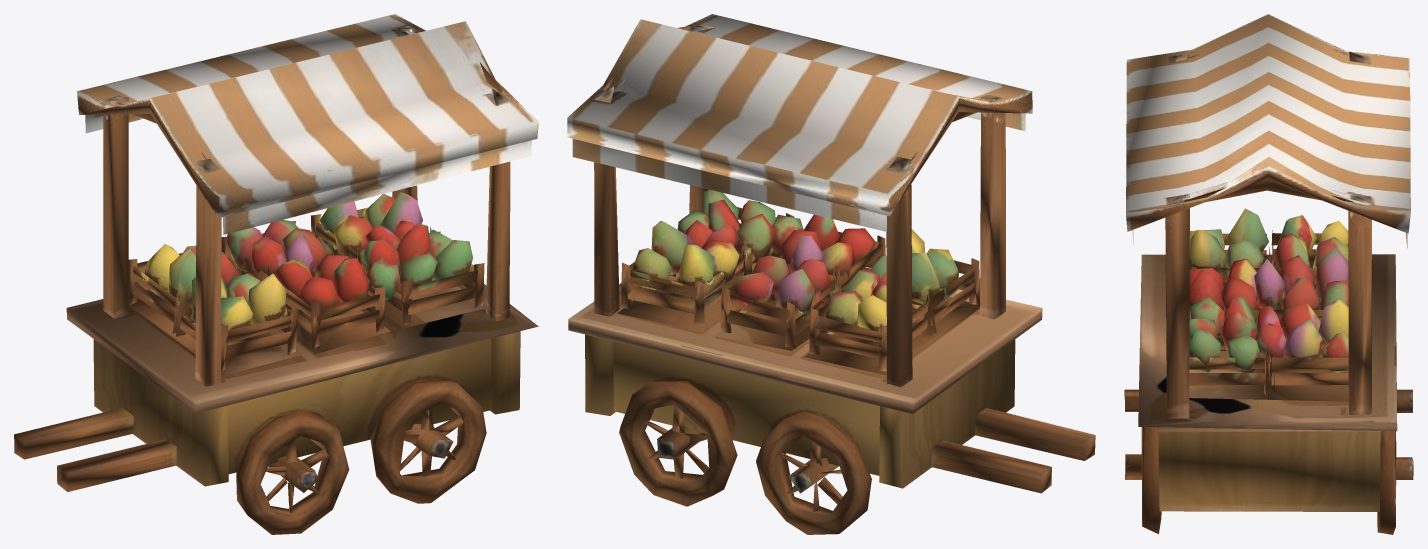
File: cart_market_2.glb
3 views of the same model, side by side, from view 1: azimuth 30°, elevation 25°; view 2: azimuth 150°, elevation 25°; view 3: azimuth 270°, elevation 25° (orthographic).
Parts seen in each view (by area): view 1: ЦІЛЬ; view 2: ЦІЛЬ; view 3: ЦІЛЬ.
Boxes of the visible parts, x1,y1,x2,y2 form: ЦІЛЬ: [14, 14, 538, 534]; ЦІЛЬ: [567, 14, 1095, 534]; ЦІЛЬ: [1124, 14, 1413, 534].
Bounding box in the file's own units: 0.9539 × 0.87 × 0.5591.
Materials: 1 (1 with a texture image).
